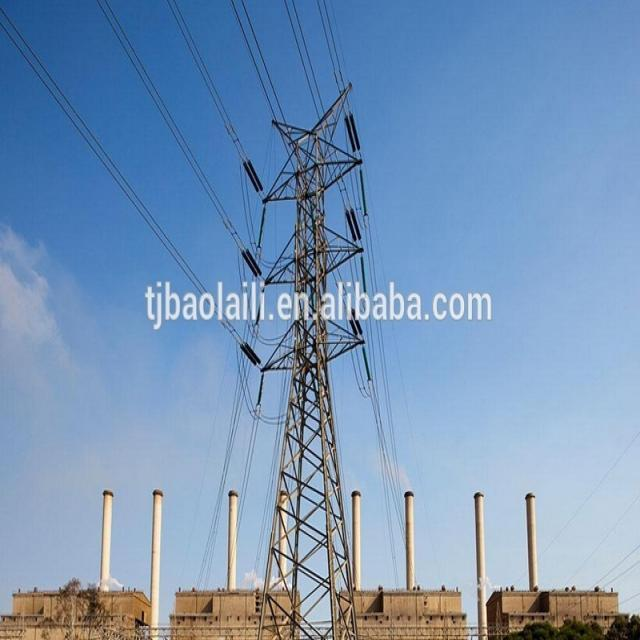non-critical vegetation: (229, 87, 392, 610)
